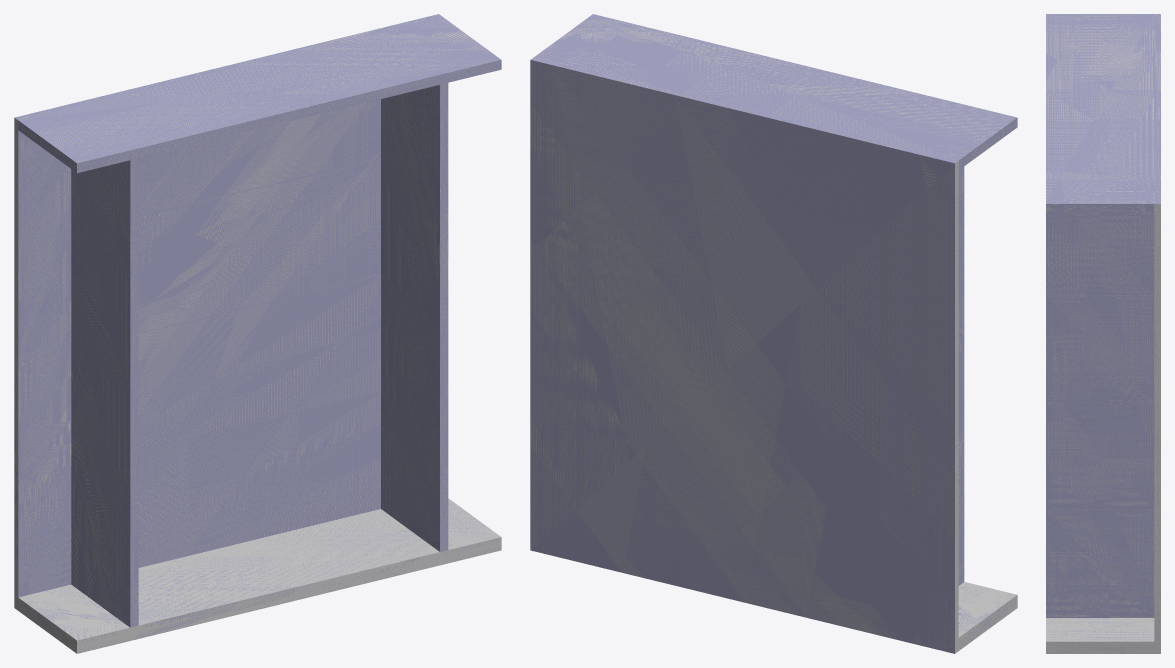
The model's file is frame.dae.
3 views of the same model, side by side, from view 1: azimuth 30°, elevation 25°; view 2: azimuth 150°, elevation 25°; view 3: azimuth 270°, elevation 25° (orthographic). The views are drawn at different scales.
Visible parts, largest first — view 1: SketchUp_001, SketchUp; view 2: SketchUp_001, SketchUp; view 3: SketchUp_001, SketchUp.
Boxes of the visible parts, x1,y1,x2,y2 form: SketchUp_001: (15, 14, 501, 627); SketchUp: (14, 117, 501, 653); SketchUp_001: (530, 14, 1017, 653); SketchUp: (955, 161, 1017, 653); SketchUp_001: (1046, 14, 1160, 617); SketchUp: (1046, 204, 1160, 653).
Bounding box in the file's own units: 1.66 × 0.425 × 1.84.
